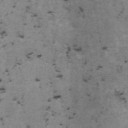oxide scale of temperature system: (0, 0, 126, 128), (124, 60, 128, 64)
